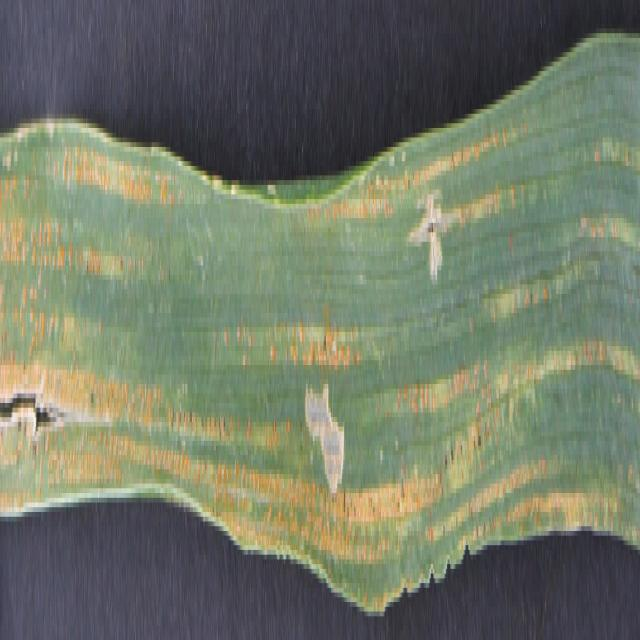leaf rust: (1, 109, 636, 588)
